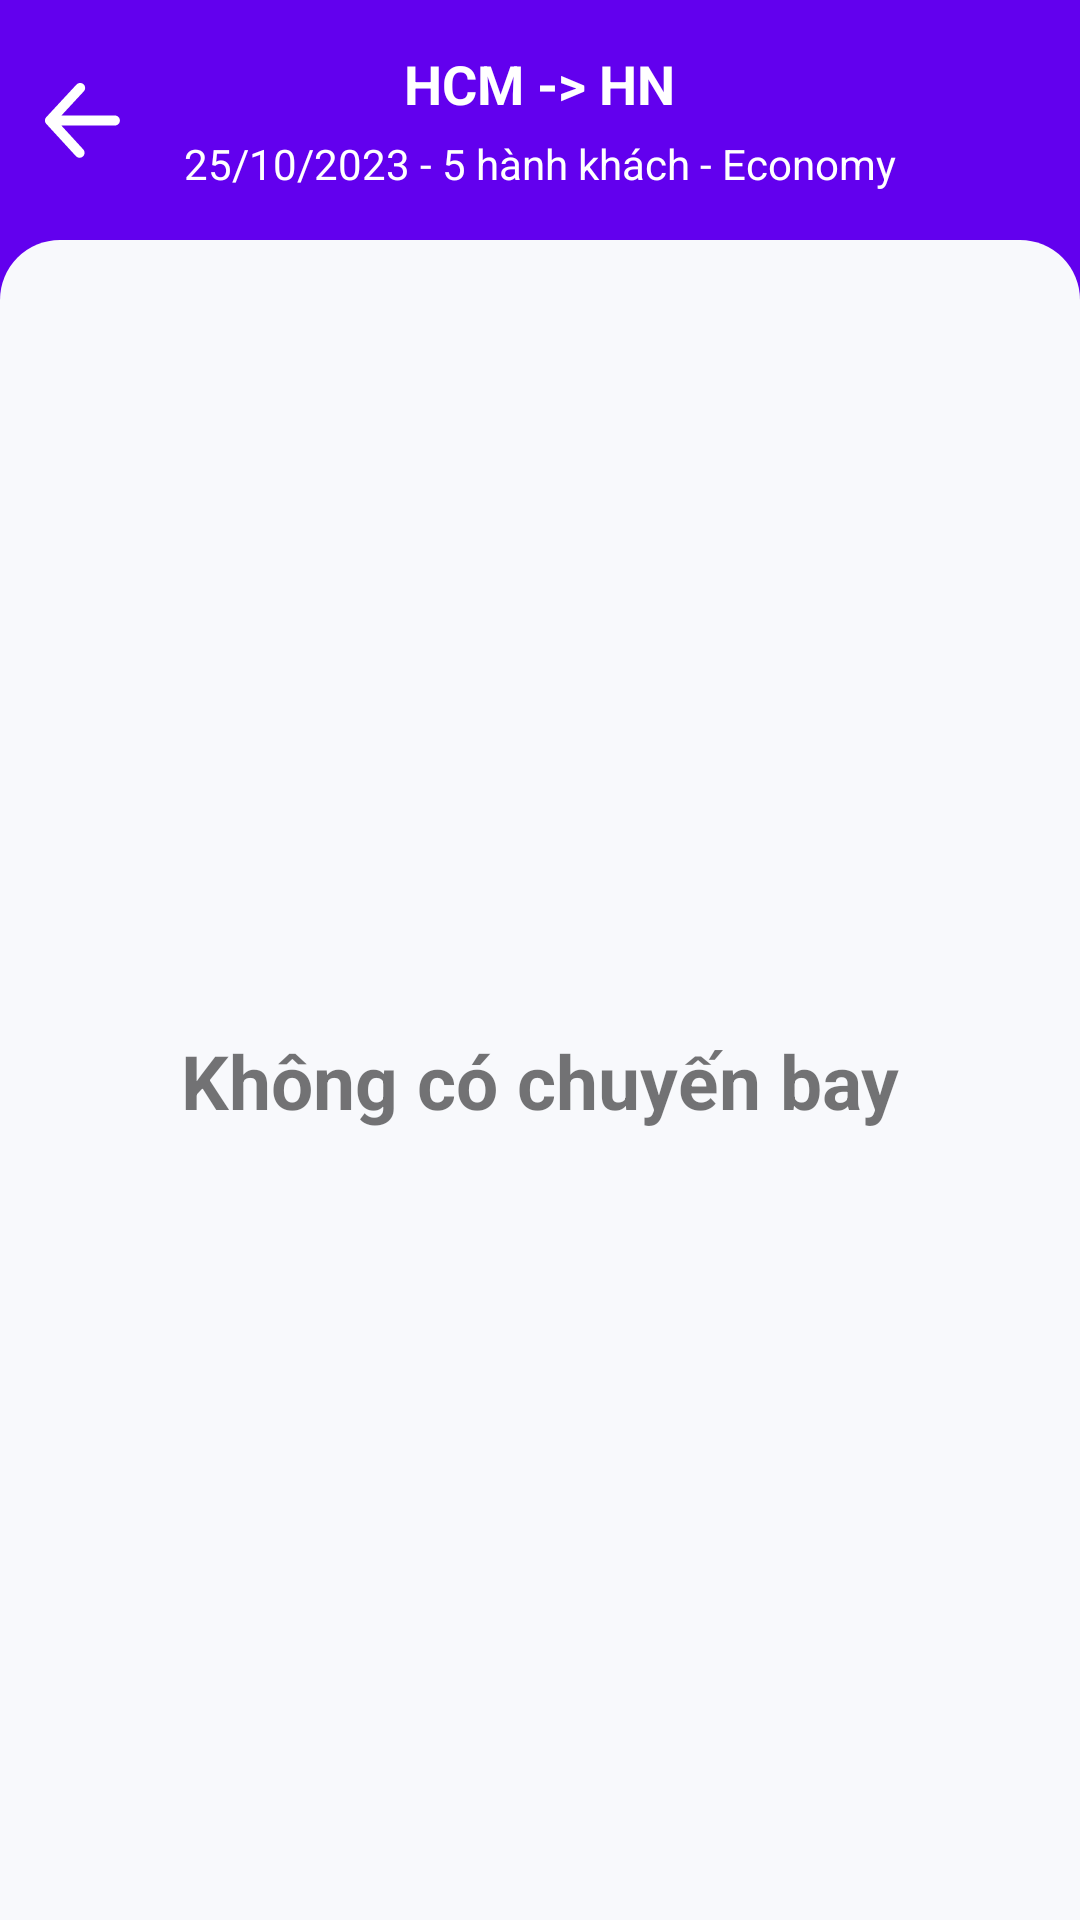

Screen size 1080x1920. Icon name, then its center in pixels as (x,y):
back: (82,120)
